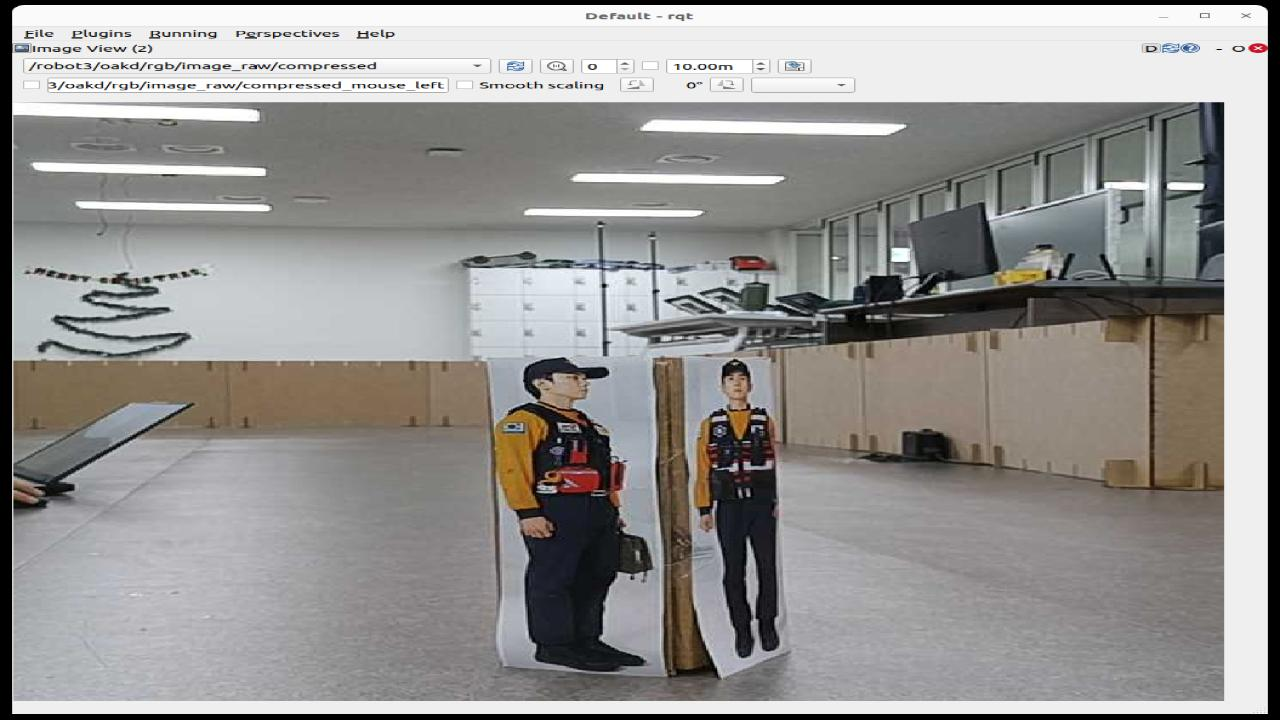Responder: (495, 369, 647, 671), (694, 359, 779, 657)
